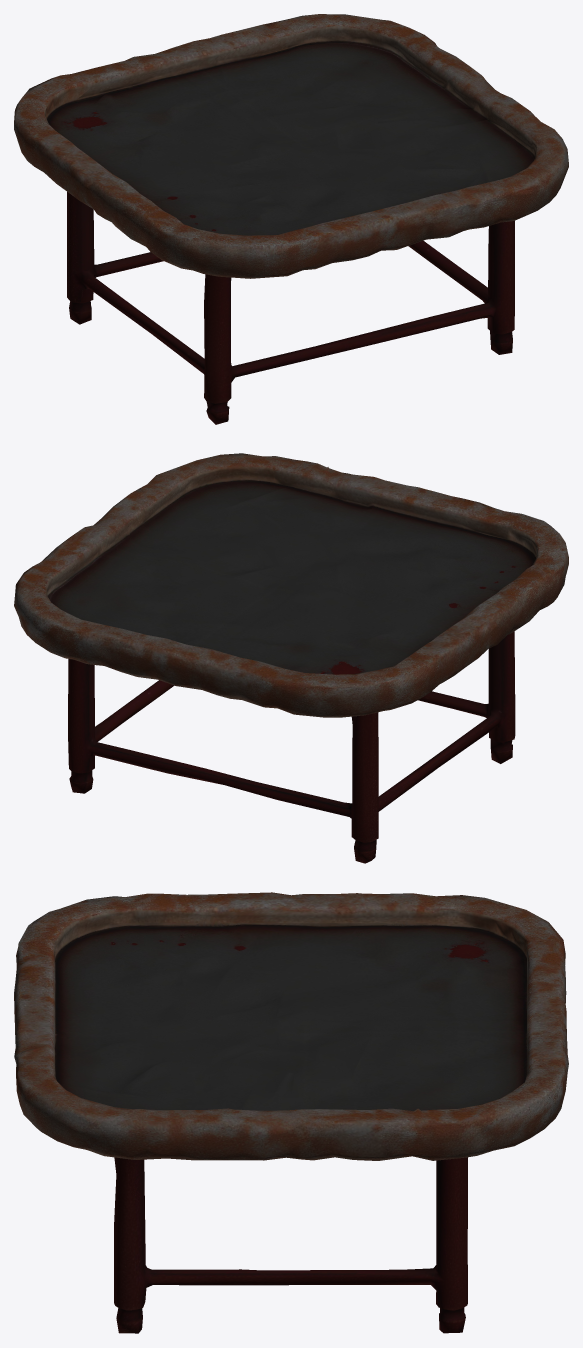
3 renders of one model, top to bottom at view 1: azimuth 30°, elevation 25°; view 2: azimuth 150°, elevation 25°; view 3: azimuth 270°, elevation 25°, orthographic. The views are drawn at different scales.
Visible parts, largest first — view 1: tripo_node_1d2a4b21; view 2: tripo_node_1d2a4b21; view 3: tripo_node_1d2a4b21.
Part boxes in pixels (x1,y1,x2,y2): tripo_node_1d2a4b21: (14,14,568,424); tripo_node_1d2a4b21: (14,453,568,863); tripo_node_1d2a4b21: (14,892,568,1333).
Bounding box in the file's own units: 0.9795 × 0.4779 × 0.982.
Materials: 1 (1 with a texture image).
